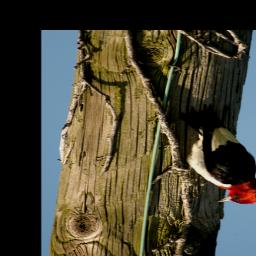Woodpecker: (166, 104, 256, 205)
